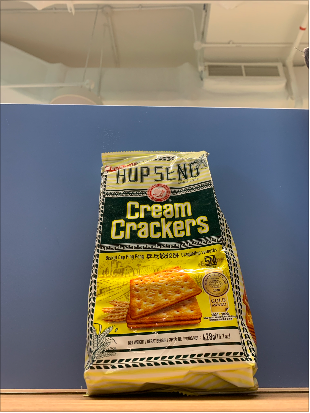Crackers_400-499g: (104, 175, 238, 372)
